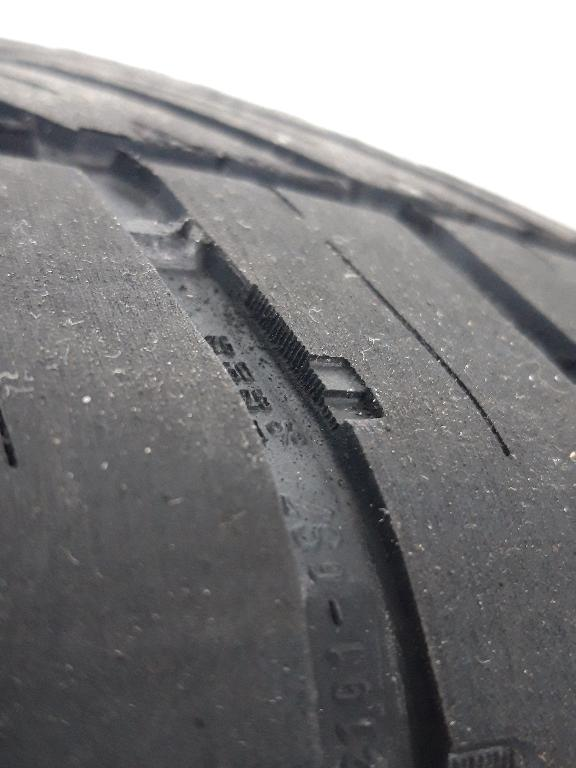temoin:25: (287, 332, 402, 450)
